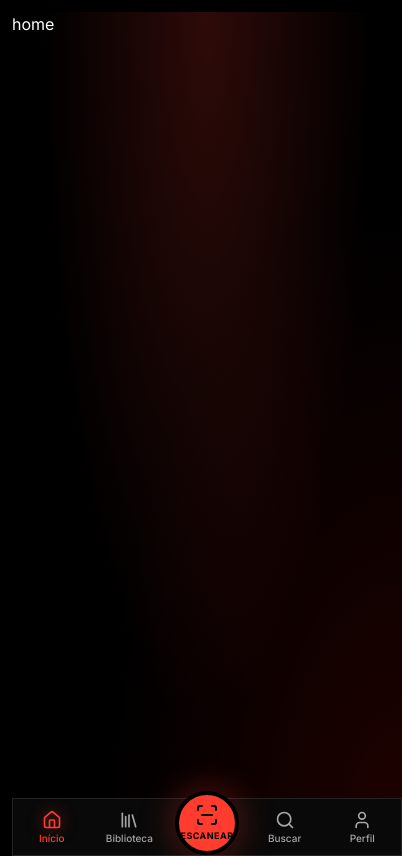
Test: BottomNav › keeps scanner as the central navigation action
Click the button with aria-label "Escanear livro" at [207, 823], box [175, 791, 239, 855]
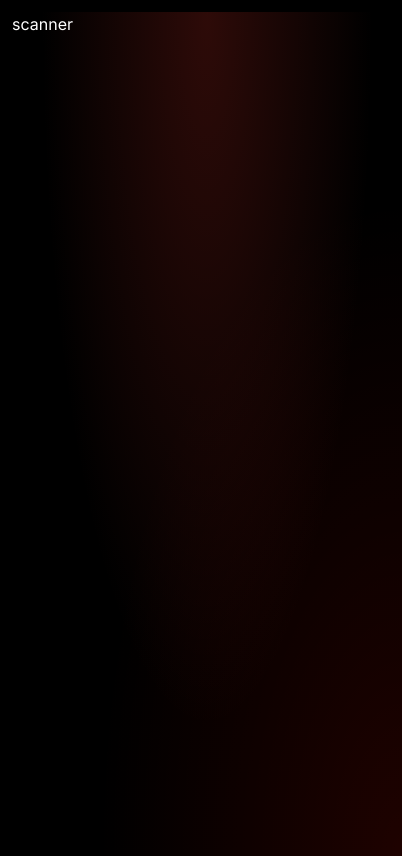
Result: the text with test id "scanner-route" reads "scanner" at [12, 14, 73, 34]
